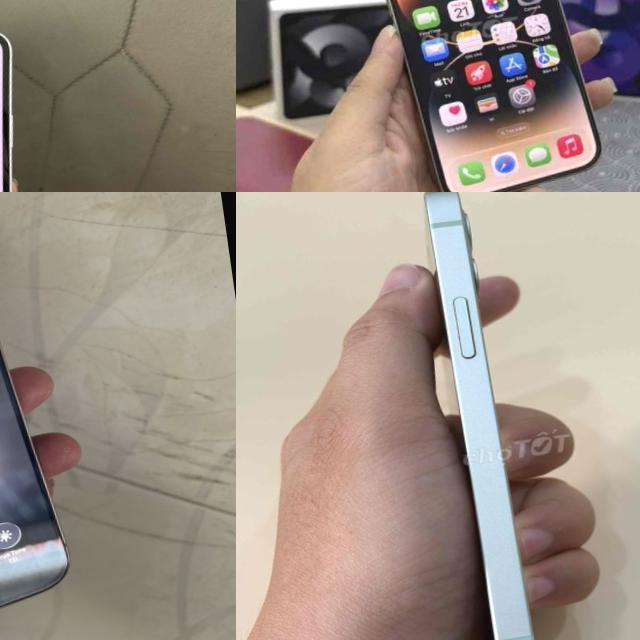gen_12_13: (407, 192, 564, 640), (0, 7, 71, 192)
gen_14: (360, 0, 617, 192)
gen_15: (0, 192, 103, 640)
